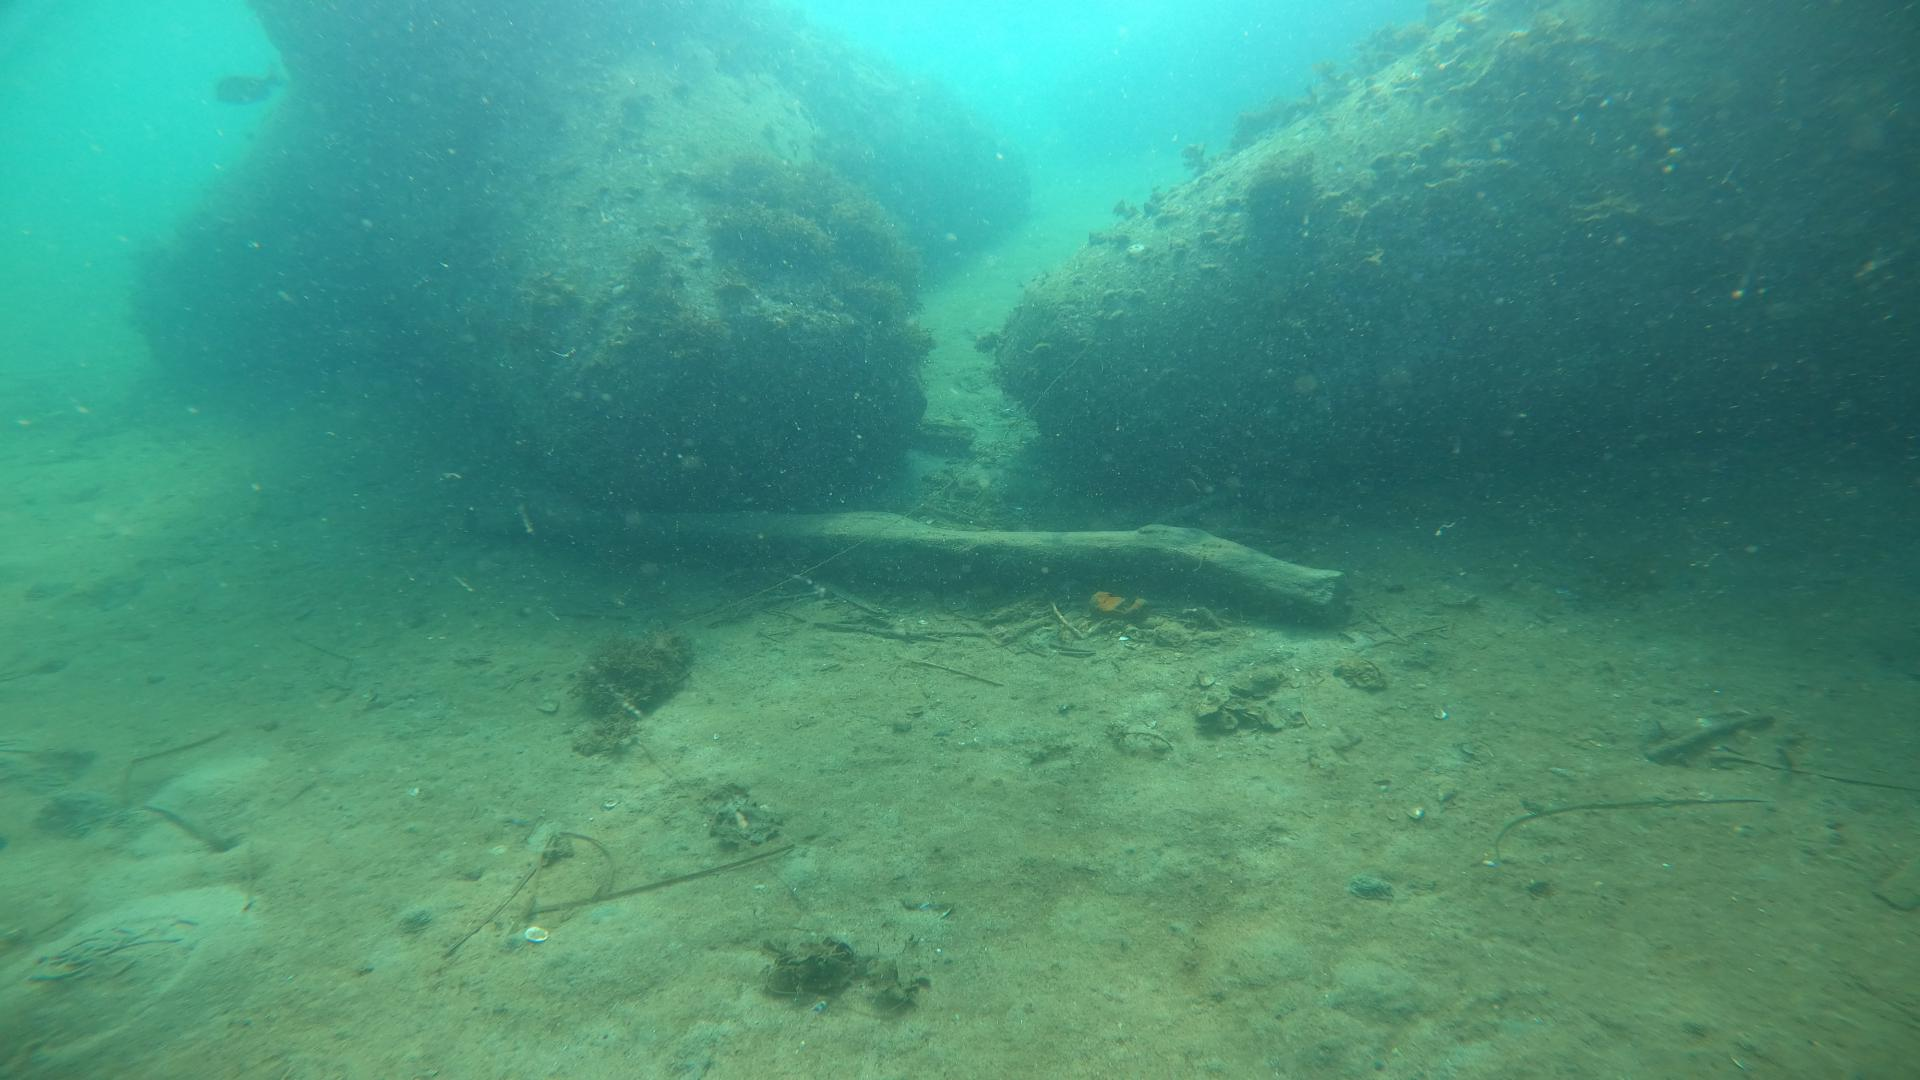wood: (498, 493, 1346, 622)
